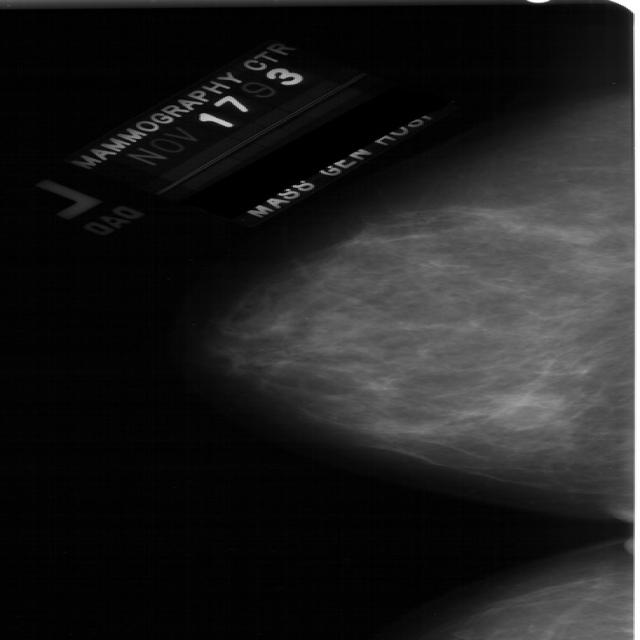tumour: (488, 392, 562, 430)
